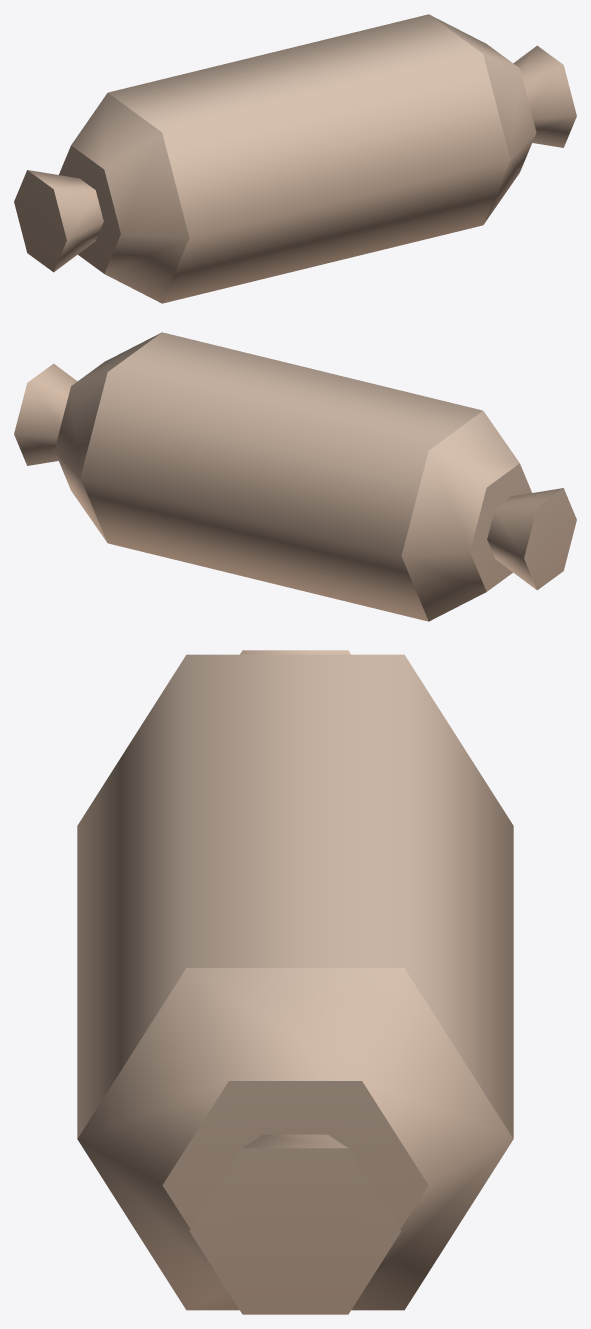
The model's file is sausage.glb.
3 renders of one model, top to bottom at view 1: azimuth 30°, elevation 25°; view 2: azimuth 150°, elevation 25°; view 3: azimuth 270°, elevation 25°, orthographic. The views are drawn at different scales.
Parts seen in each view (by area): view 1: sausage; view 2: sausage; view 3: sausage.
Boxes of the visible parts, x1=… form: sausage: x1=14, y1=14, x2=576, y2=303; sausage: x1=14, y1=332, x2=576, y2=621; sausage: x1=77, y1=650, x2=513, y2=1314.
Size of the model in its own units: 0.3707 by 0.1189 by 0.1373.
